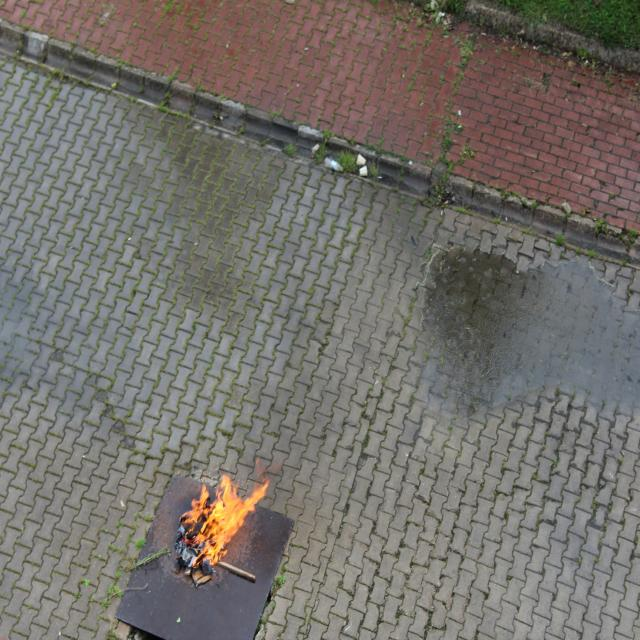fire: (180, 456, 272, 564)
